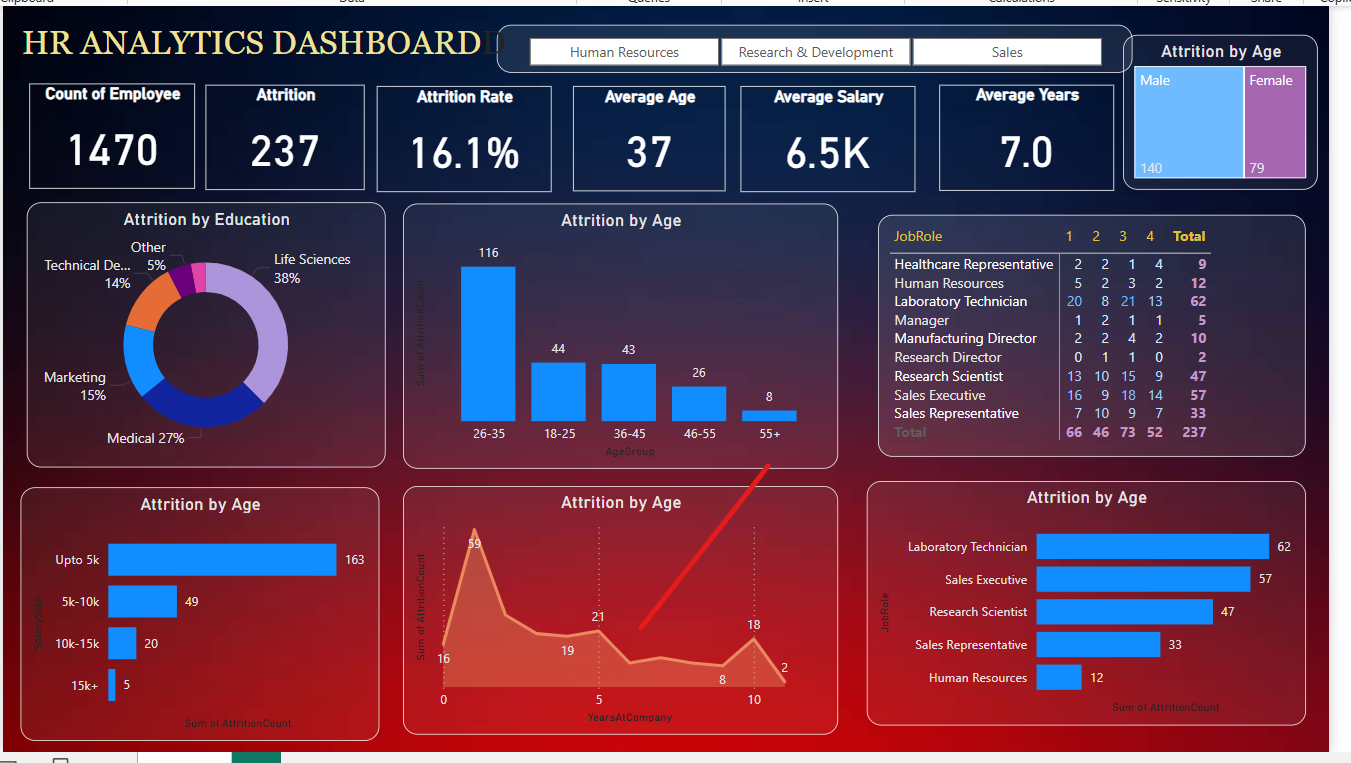

The dashboard page shown, as its layout file describes it:
{"tool":"powerbi","page":{"name":"Page 1","canvas":[1280,720],"ordinal":0},"visuals":[{"type":"card","title":"Count of Employee","fields":{"Values":["CountNonNull(HR_Analytics.EmpID)"]},"box":[25,74.8,160,101.2],"z":0},{"type":"card","title":"Attrition","fields":{"Values":["Sum(HR_Analytics.AttritionCount)"]},"box":[195.8,75.7,153.8,101.2],"z":1000},{"type":"card","title":"Attrition Rate","fields":{"Values":["HR_Analytics.AttritionRate"]},"box":[361.2,77.8,168.8,102.5],"z":2000},{"type":"card","title":"Average Age","fields":{"Values":["Avg(HR_Analytics.Age)"]},"box":[550,77.7,147.5,101.2],"z":3000},{"type":"card","title":"Average Years","fields":{"Values":["Avg(HR_Analytics.YearsAtCompany)"]},"box":[903.5,75.7,168.8,102.5],"z":4000},{"type":"card","title":"Average Salary","fields":{"Values":["Avg(HR_Analytics.MonthlyIncome)"]},"box":[712.3,77.7,168.8,102.5],"z":5000},{"type":"donutChart","title":"Attrition by Education","fields":{"Category":["HR_Analytics.EducationField"],"Y":["Sum(HR_Analytics.AttritionCount)"]},"box":[23,189.7,346.2,256.2],"z":6000},{"type":"columnChart","title":"Attrition by Age","fields":{"Category":["HR_Analytics.AgeGroup"],"Y":["Sum(HR_Analytics.AttritionCount)"]},"box":[386.2,190.8,420,256.2],"z":7000},{"type":"pivotTable","fields":{"Rows":["HR_Analytics.JobRole"],"Columns":["HR_Analytics.JobSatisfaction"],"Values":["Sum(HR_Analytics.AttritionCount)"]},"box":[845,201.2,412.5,233.8],"z":8000},{"type":"barChart","title":"Attrition by Age","fields":{"Category":["HR_Analytics.SalarySlab"],"Y":["Sum(HR_Analytics.AttritionCount)"]},"box":[17,464.3,346.2,245],"z":9000},{"type":"barChart","title":"Attrition by Age","fields":{"Category":["HR_Analytics.JobRole"],"Y":["Sum(HR_Analytics.AttritionCount)"]},"box":[833.8,458.8,423.8,236.2],"z":10000},{"type":"areaChart","title":"Attrition by Age","fields":{"Y":["Sum(HR_Analytics.AttritionCount)"],"Category":["HR_Analytics.YearsAtCompany"]},"box":[386.2,463.8,420,240],"z":11000},{"type":"treemap","title":"Attrition by Age","fields":{"Group":["HR_Analytics.Gender"],"Values":["Sum(HR_Analytics.AttritionCount)"]},"box":[1080.5,27.7,188.3,149.8],"z":12000},{"type":"slicer","fields":{"Values":["HR_Analytics.Department"]},"box":[476.5,17.7,613.8,46.2],"z":13000},{"type":"textbox","box":[13.8,12.5,486.2,51.2],"z":14000}]}

Visuals, with their boxes on the page's 1280x720 design canvas (x1, y1, x2, y2). These are canvas units, not pixel positions in the 1351x763 screenshot, which may show the page scaled, cropped or inside an application window:
"Count of Employee" card: rect(25, 75, 185, 176)
"Attrition" card: rect(196, 76, 350, 177)
"Attrition Rate" card: rect(361, 78, 530, 180)
"Average Age" card: rect(550, 78, 698, 179)
"Average Years" card: rect(904, 76, 1072, 178)
"Average Salary" card: rect(712, 78, 881, 180)
"Attrition by Education" donutChart: rect(23, 190, 369, 446)
"Attrition by Age" columnChart: rect(386, 191, 806, 447)
pivotTable - HR_Analytics.JobRole x HR_Analytics.JobSatisfaction: rect(845, 201, 1258, 435)
"Attrition by Age" barChart: rect(17, 464, 363, 709)
"Attrition by Age" barChart: rect(834, 459, 1258, 695)
"Attrition by Age" areaChart: rect(386, 464, 806, 704)
"Attrition by Age" treemap: rect(1080, 28, 1269, 178)
slicer - HR_Analytics.Department: rect(476, 18, 1090, 64)
textbox: rect(14, 12, 500, 64)
